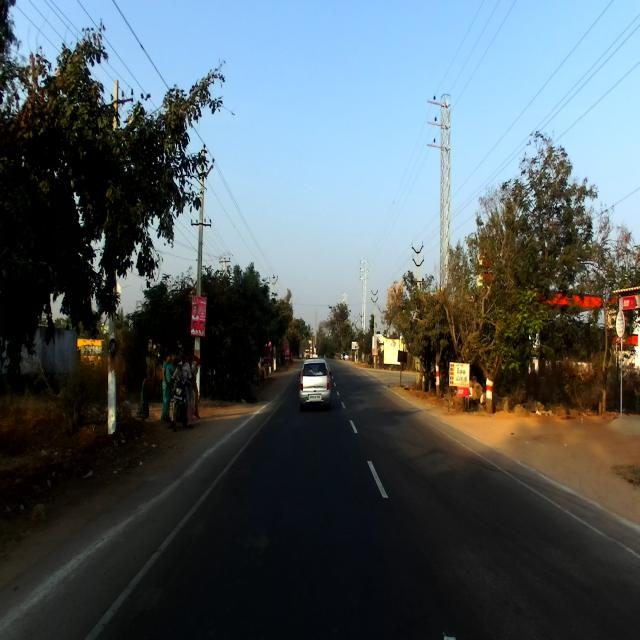car ahead at: (296, 348, 334, 415)
